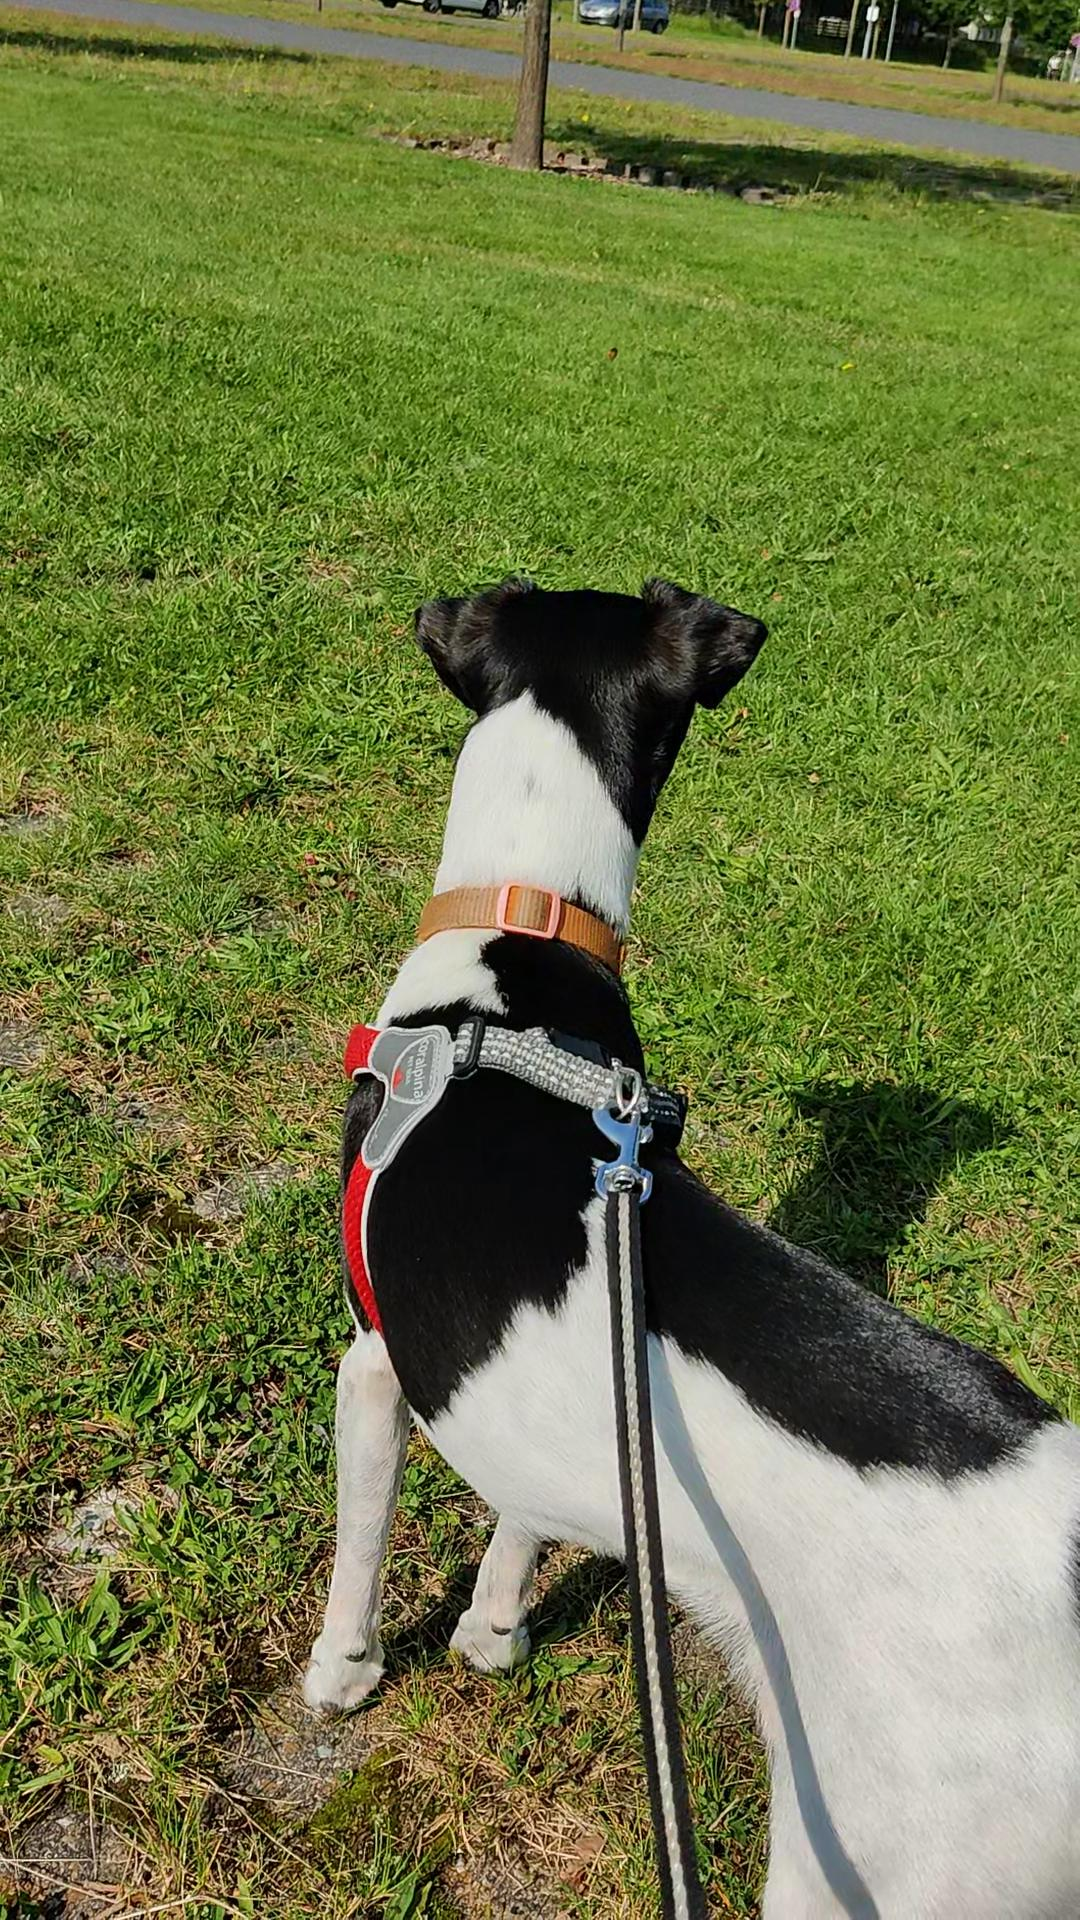Dog: (290, 564, 1079, 1919)
